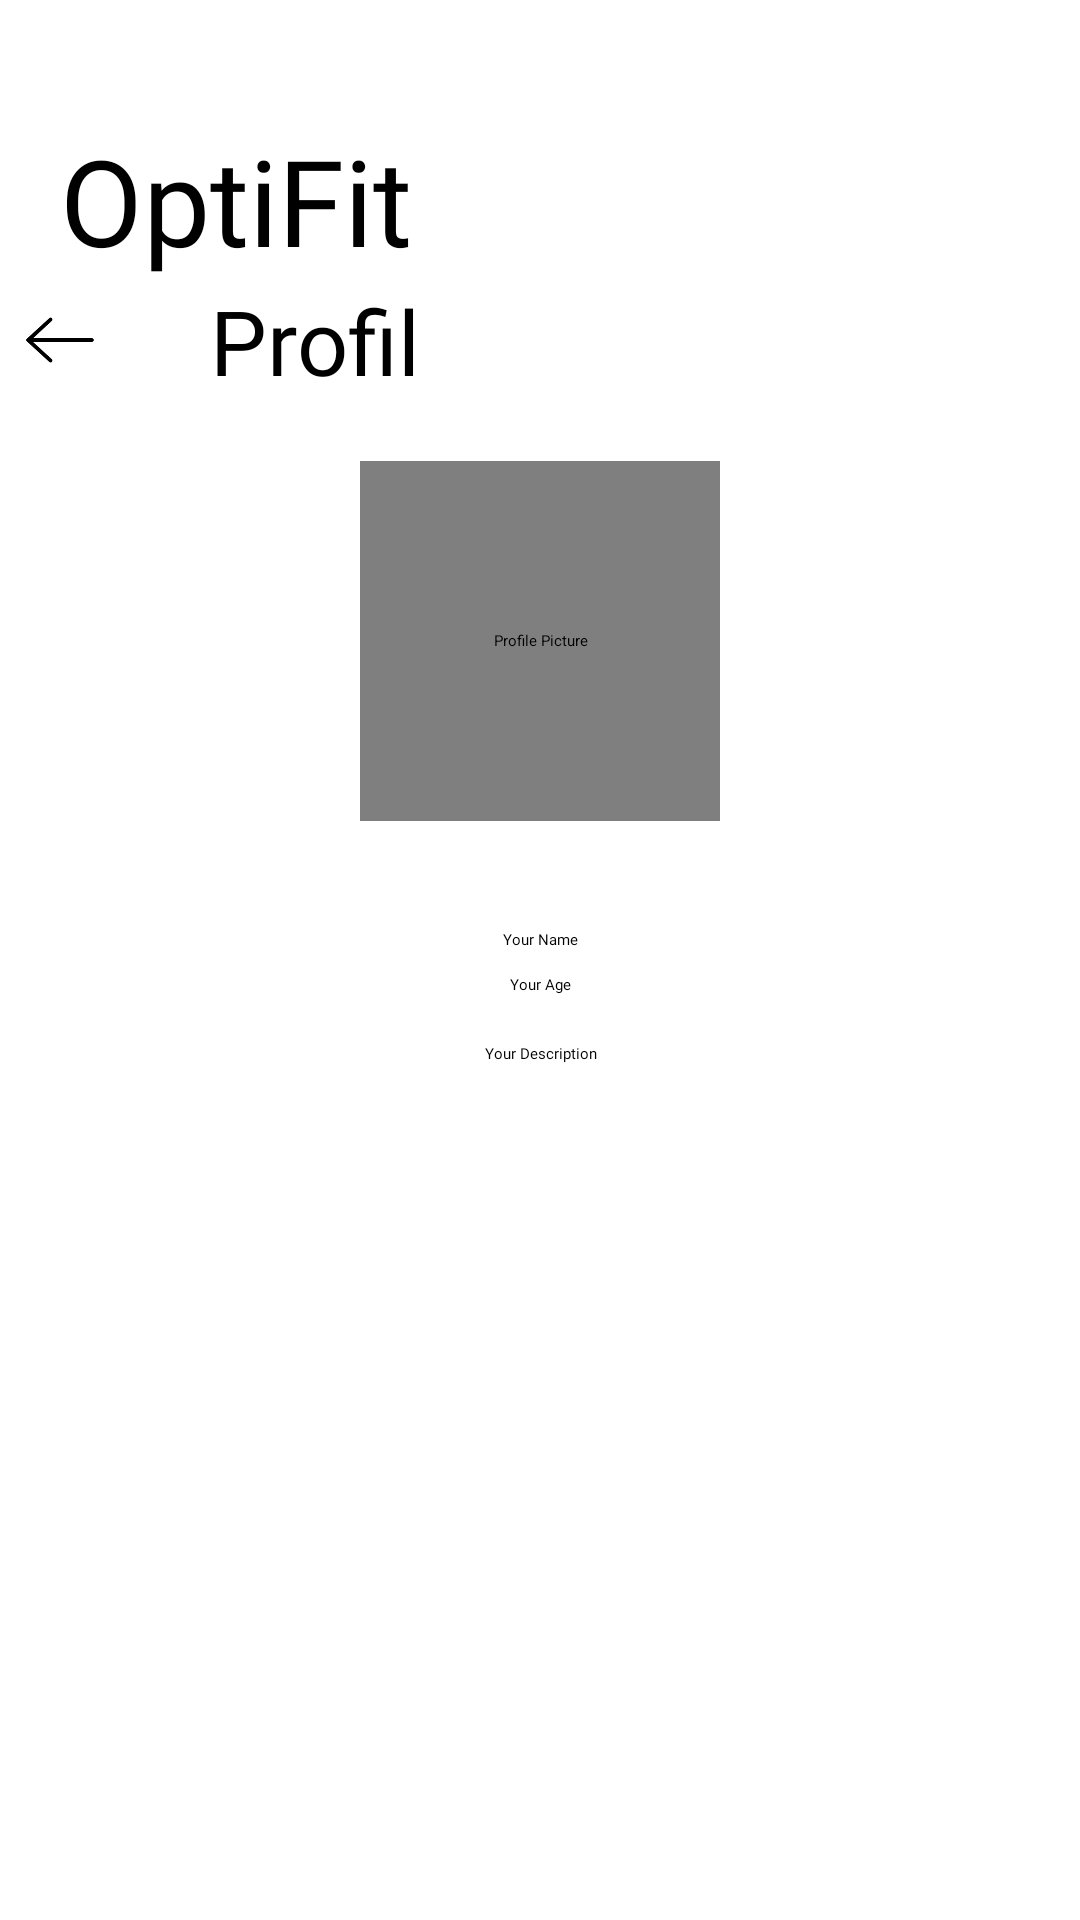

Icons on this 1080 × 1920 Android screen, each with the point to tap as point (x, y):
Back Button: point (60, 340)
